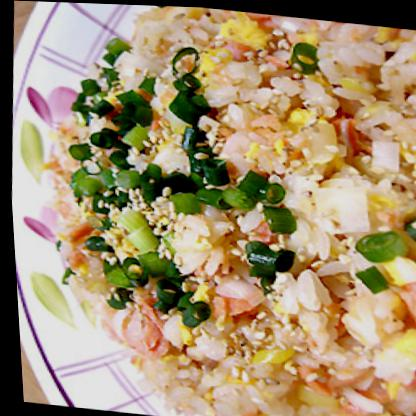fried rice: (18, 0, 415, 415)
